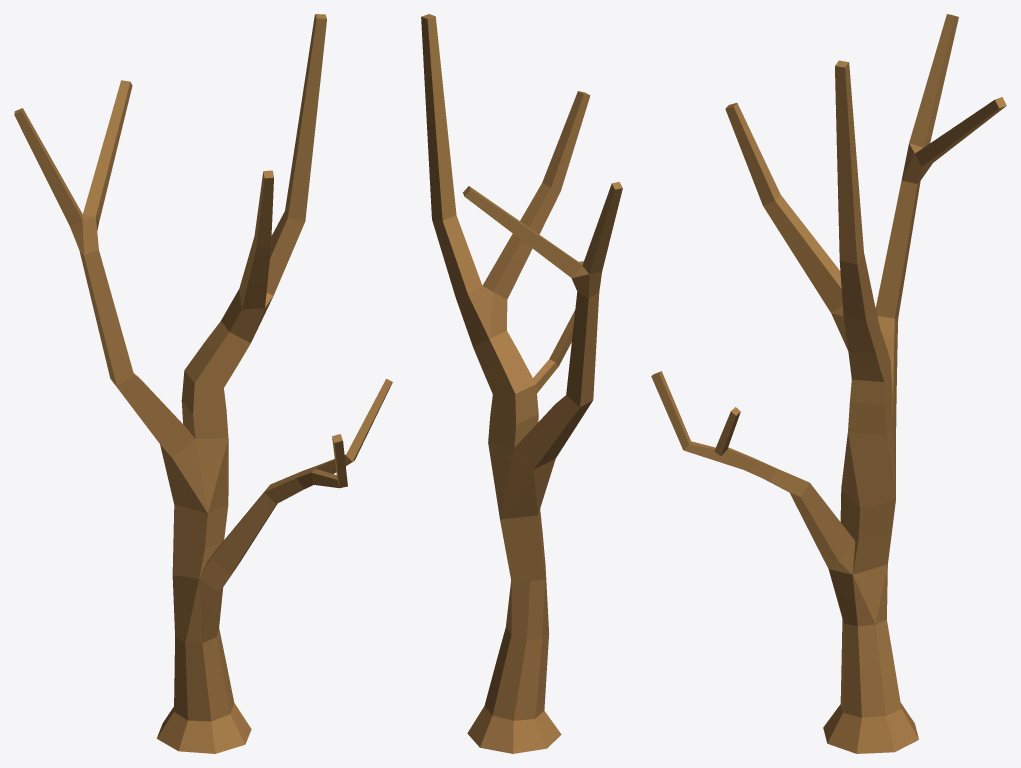
File: LP_Tree_01_NL.fbx
3 renders of one model, left to right at view 1: azimuth 30°, elevation 25°; view 2: azimuth 150°, elevation 25°; view 3: azimuth 270°, elevation 25°, orthographic. The views are drawn at different scales.
Visible parts, largest first — view 1: LP_Tree_01_NL_LOD0; view 2: LP_Tree_01_NL_LOD0; view 3: LP_Tree_01_NL_LOD0.
Part boxes in pixels (bbox=[...]): LP_Tree_01_NL_LOD0: bbox=[14, 14, 392, 753]; LP_Tree_01_NL_LOD0: bbox=[421, 14, 622, 753]; LP_Tree_01_NL_LOD0: bbox=[651, 14, 1006, 753].
Size of what is drawn, in the model's own units: 1.98 by 4.87 by 2.18.
